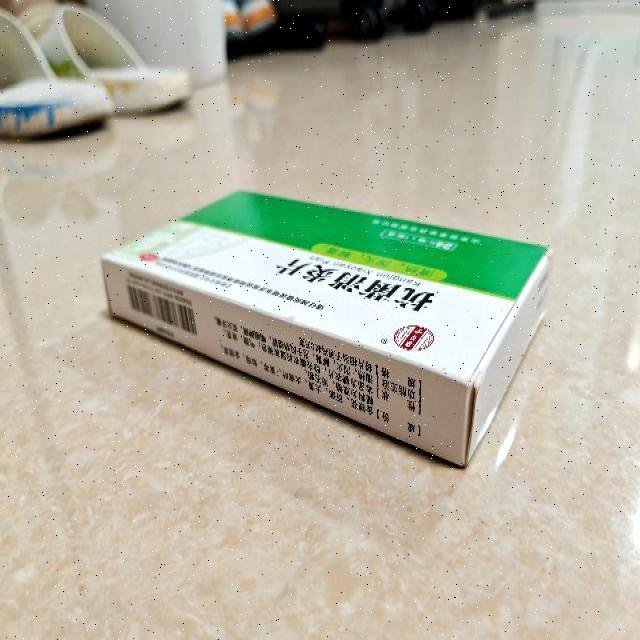box: (104, 188, 550, 464)
